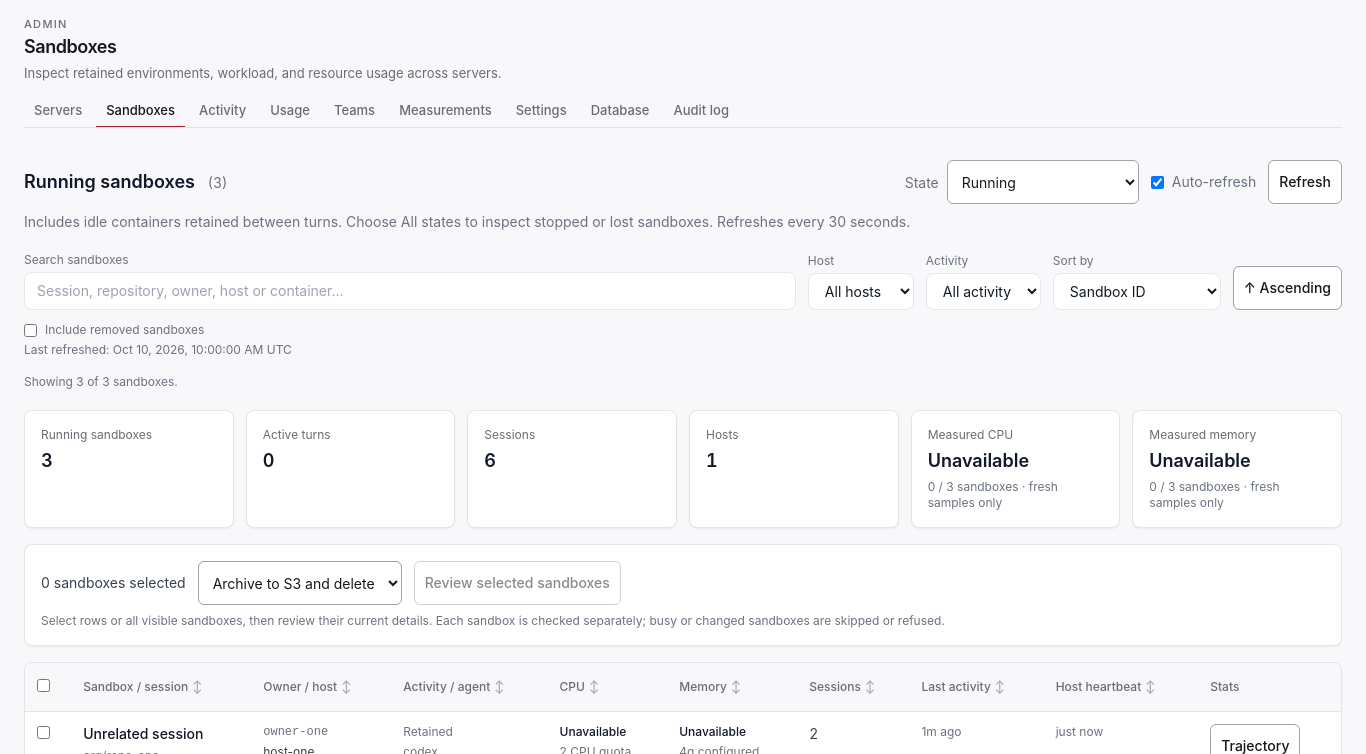
Test: running sandbox inventory › selects and changes only visible rows after filtering out a previously selected sandbox
Click the checkbox named "Select sandbox hidden". click: (44, 732)
box: x1=37 y1=726 x2=50 y2=739
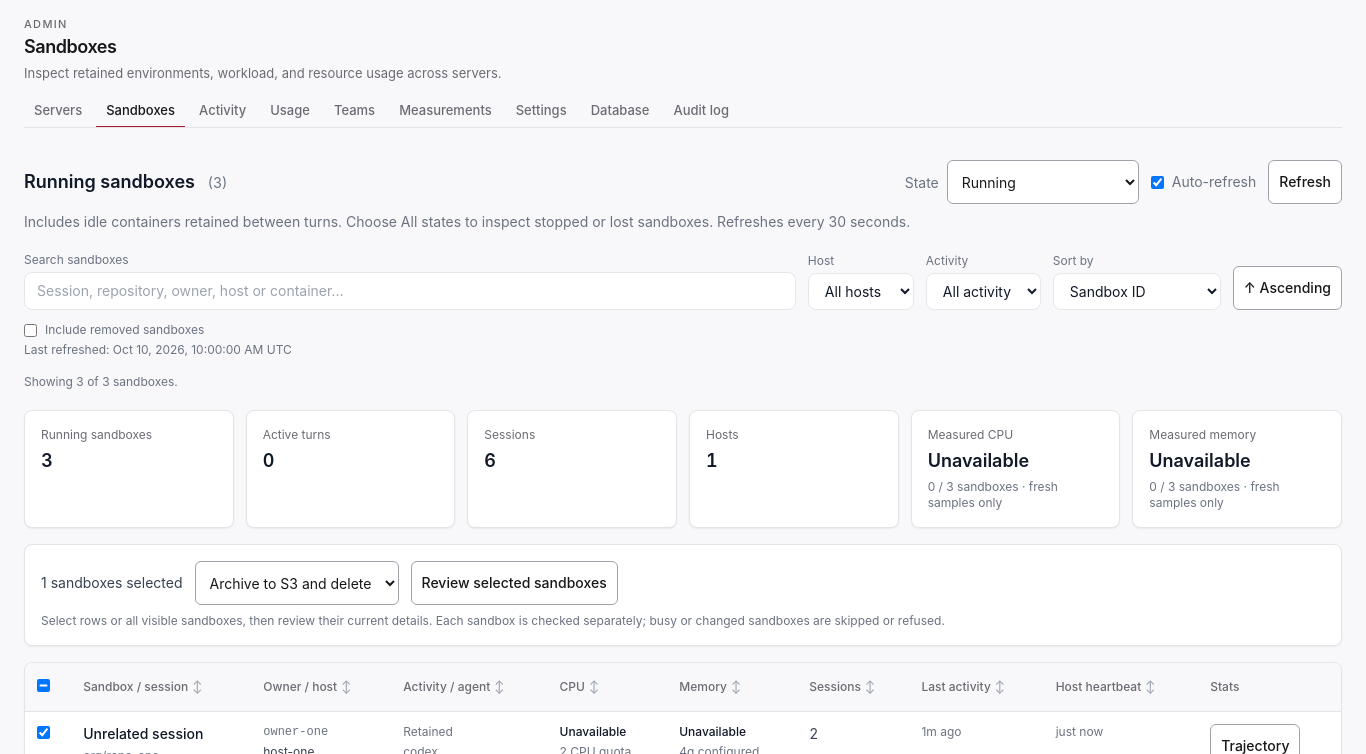
Type "target" into the search field labelled "Search sandboxes". click: (410, 291)
box: x1=24 y1=272 x2=796 y2=310
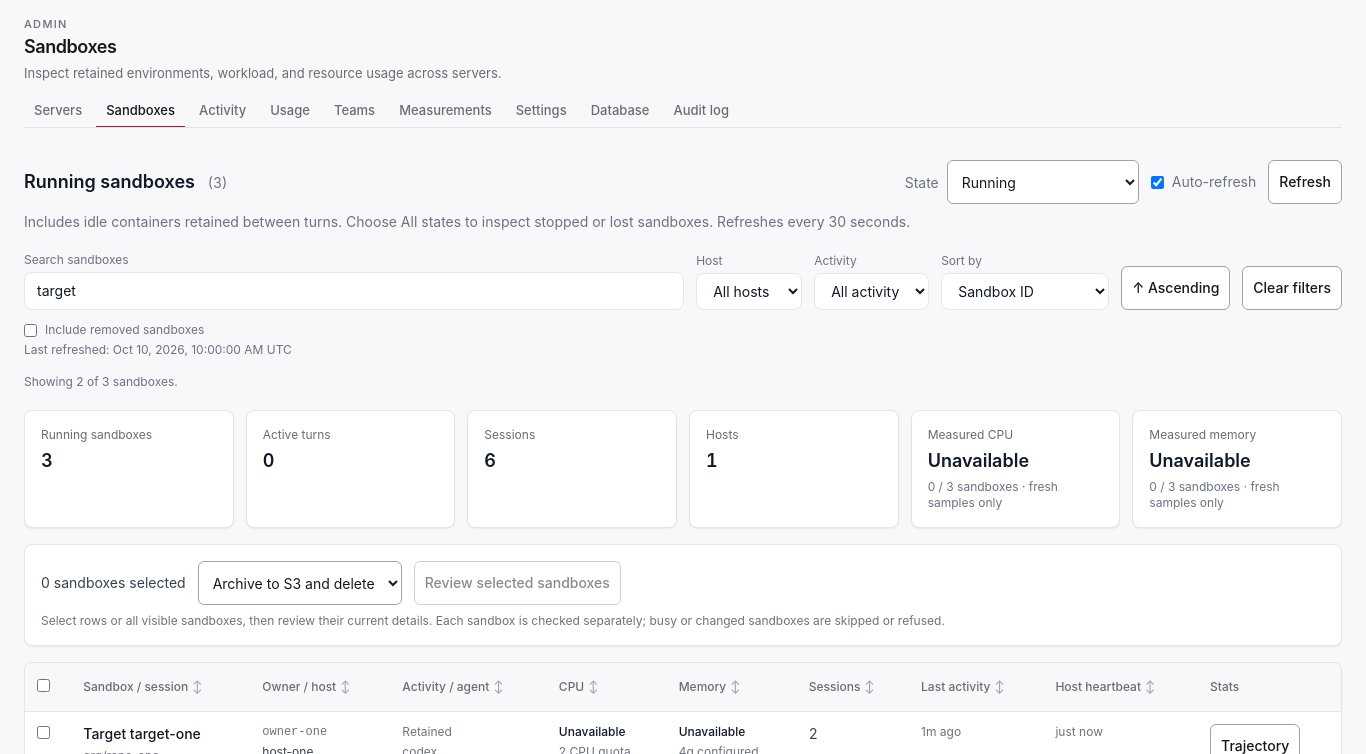
Click the checkbox named "Select all visible sandboxes". click: (44, 685)
box: x1=37 y1=678 x2=50 y2=692
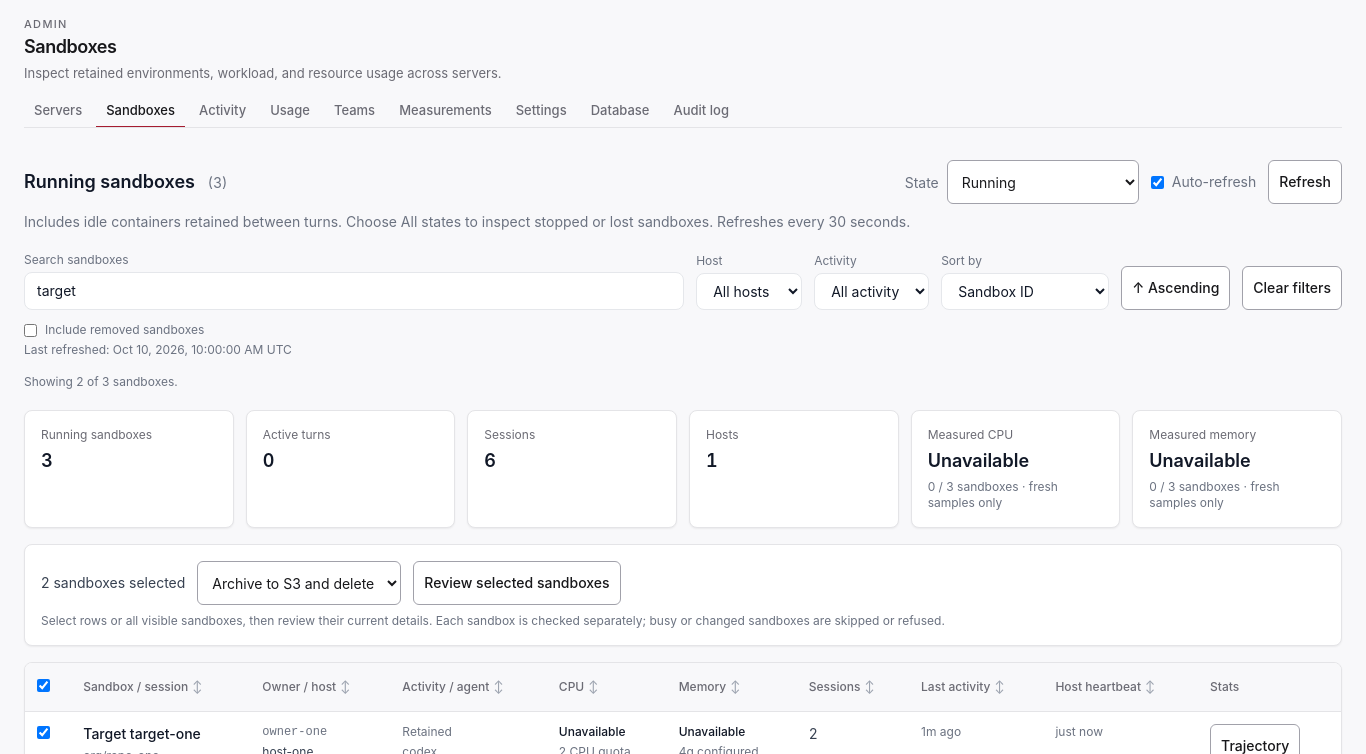
Result: the checkbox named "Select sandbox target-one" is checked at x1=37 y1=726 x2=50 y2=739
Select "Stop idle sandboxes" in the dropdown named "Batch sandbox action". click: (299, 583)
box: x1=197 y1=561 x2=401 y2=605
Click the button "Review selected sandboxes". click: (517, 583)
box: x1=413 y1=561 x2=620 y2=605
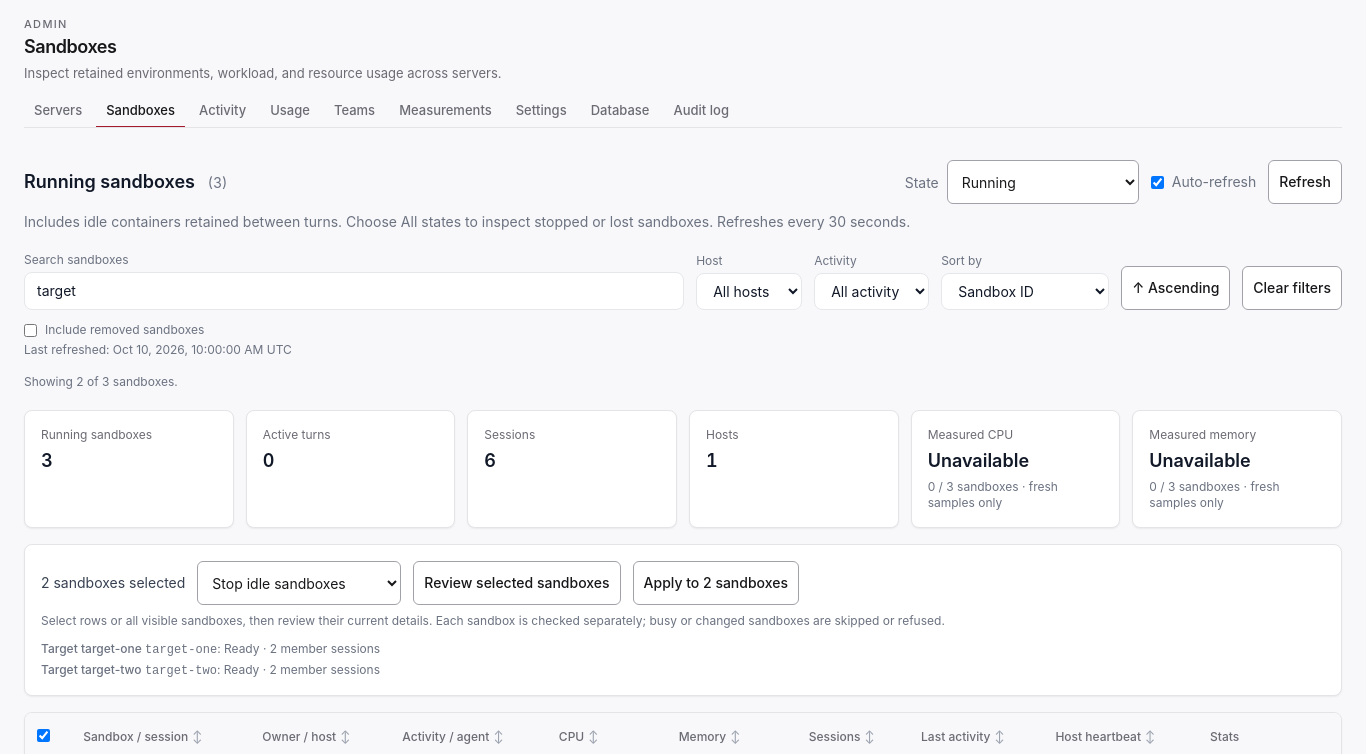
Result: the button "Apply to 2 sandboxes" is enabled
Click the button "Apply to 2 sandboxes". click: (716, 583)
box: x1=633 y1=561 x2=799 y2=605
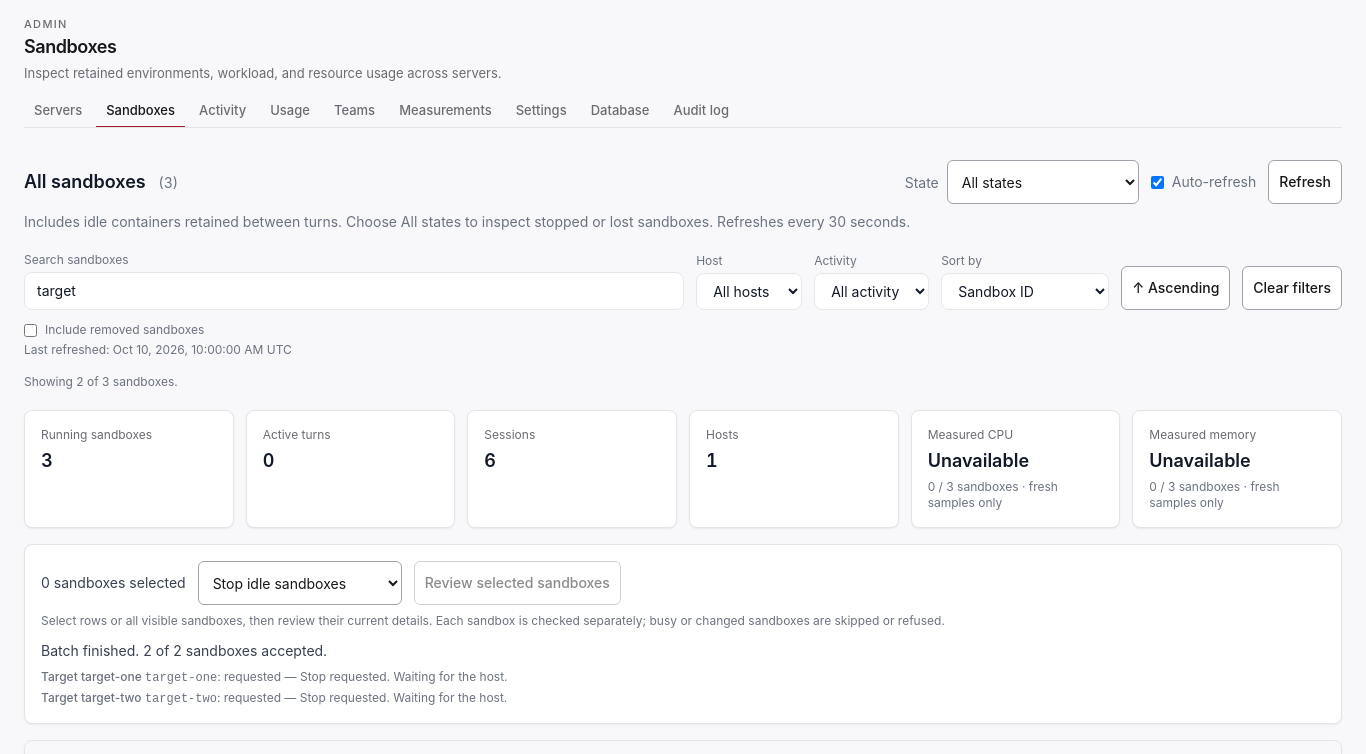
Click the button "Clear filters". click: (1292, 288)
box: x1=1242 y1=266 x2=1342 y2=310
(page scrolled)
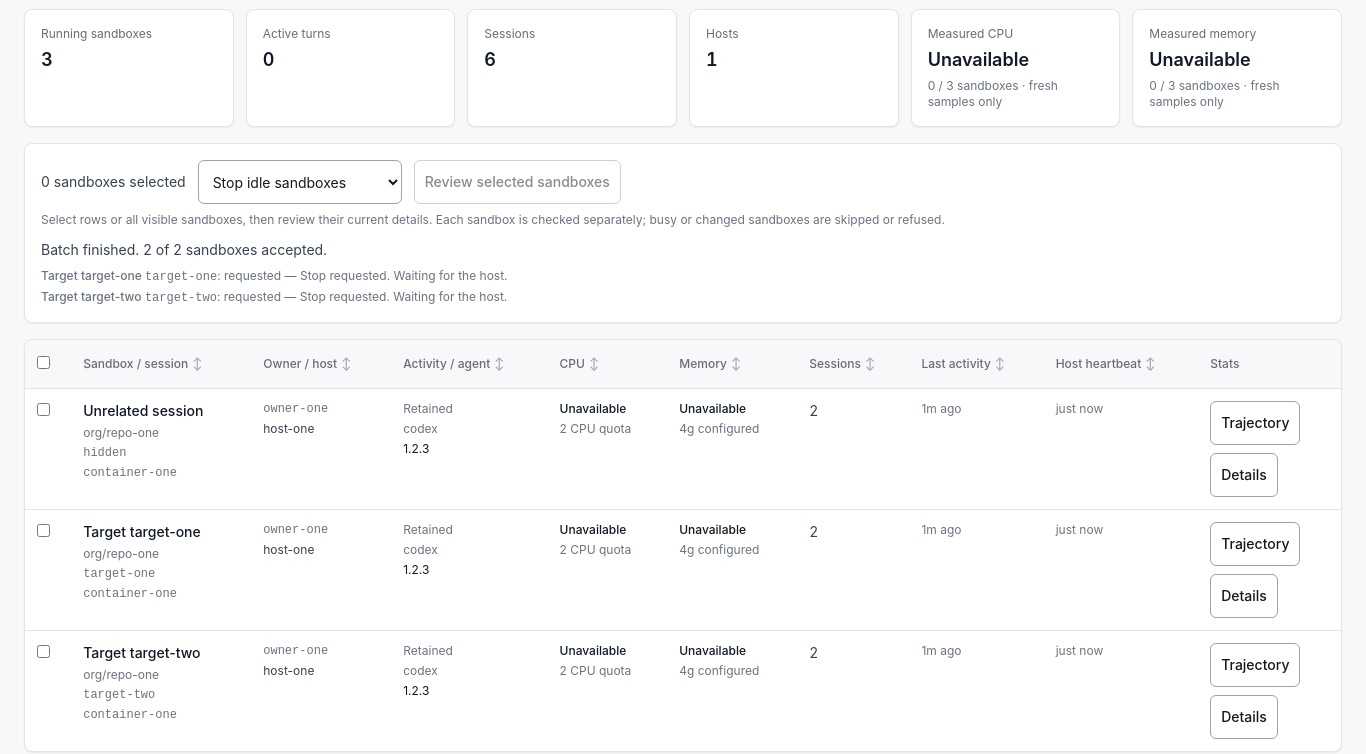
Result: the checkbox named "Select sandbox hidden" is not checked at x1=37 y1=403 x2=50 y2=416
